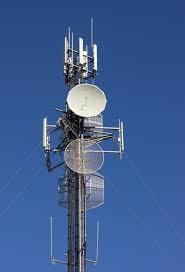Microwave Antenna: (61, 136, 106, 176), (63, 84, 110, 120), (114, 116, 130, 160)
antenna: (40, 114, 50, 152), (62, 34, 72, 64), (77, 33, 86, 66), (92, 42, 100, 76)
